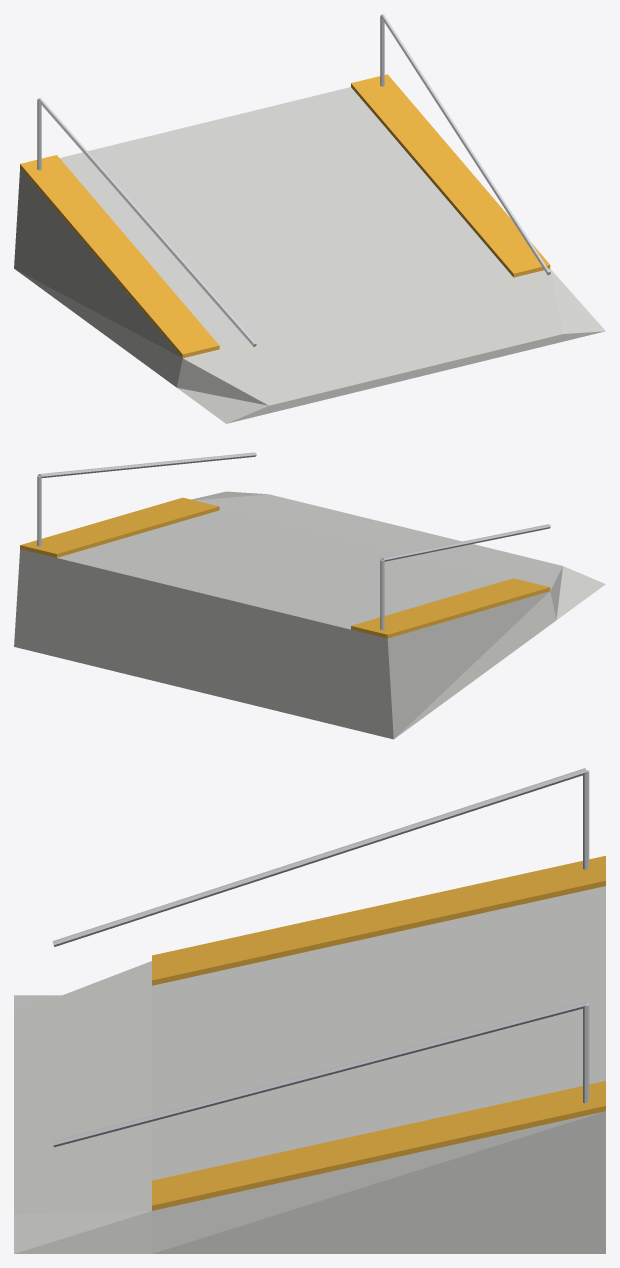
The model's file is platform-ramp.glb.
3 renders of one model, top to bottom at view 1: azimuth 30°, elevation 25°; view 2: azimuth 150°, elevation 25°; view 3: azimuth 270°, elevation 25°, orthographic. The views are drawn at different scales.
Visible parts, largest first — view 1: island-platform-ramp; view 2: island-platform-ramp; view 3: island-platform-ramp.
Part boxes in pixels (x1,y1,x2,y2): island-platform-ramp: [14, 14, 605, 423]; island-platform-ramp: [14, 452, 605, 739]; island-platform-ramp: [14, 768, 605, 1253].
Size of the model in its own units: 6.2 by 2.68 by 6.
